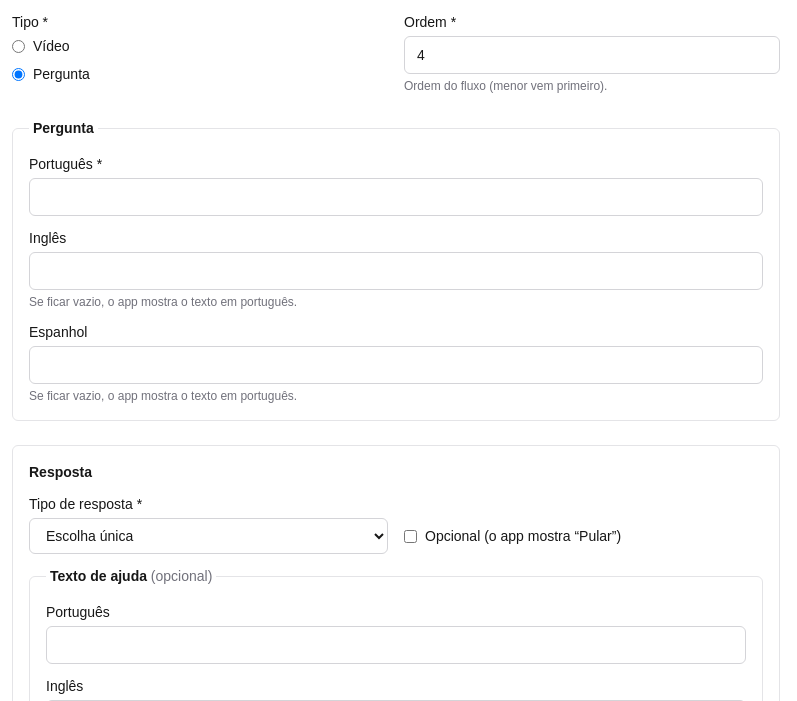
Test: StepForm answer types (v2) › videos have no answer settings
Click the radio button labelled "Vídeo".
click(18, 46)  # box [12, 40, 25, 52]
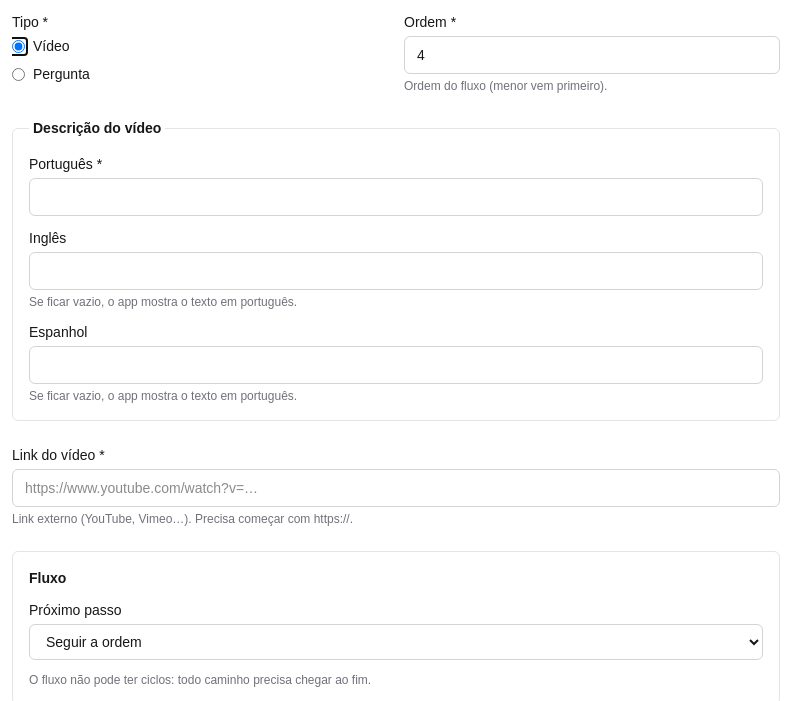
Expected: the field labelled "Opcional" is not shown
Expected: the label labelled "Tipo de resposta *" is gone
